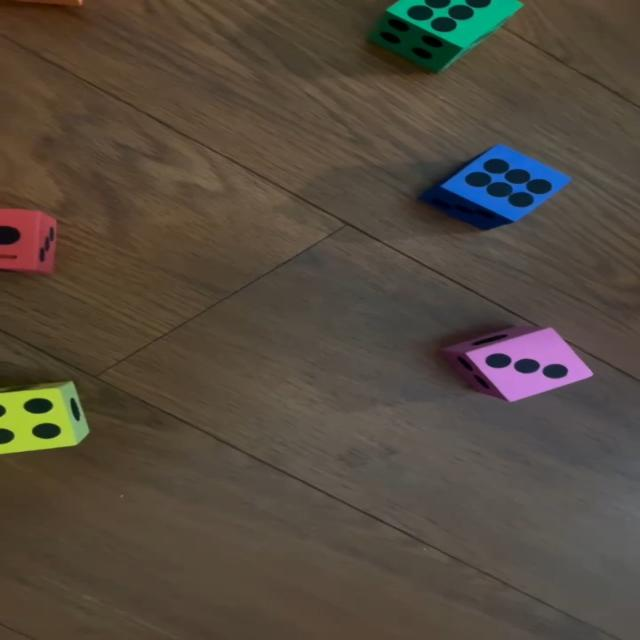blue_block: (428, 144, 573, 229)
red_block: (0, 208, 61, 273)
